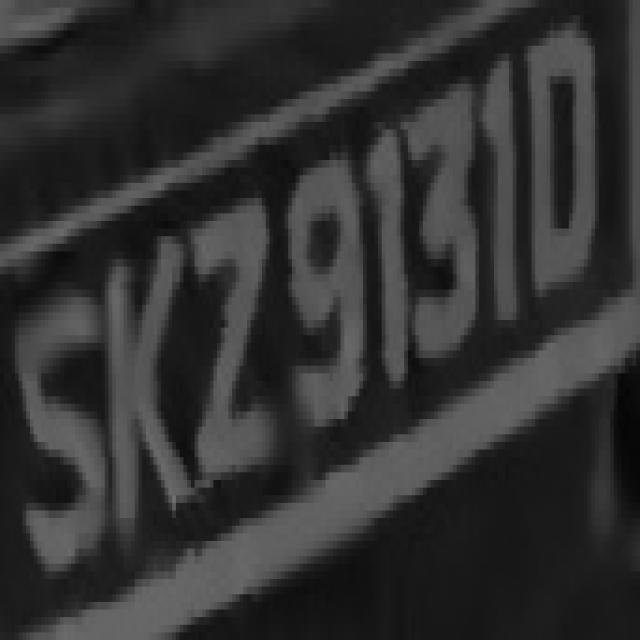1: (479, 31, 528, 358), (360, 99, 404, 404)
3: (393, 76, 472, 343)
9: (277, 160, 363, 442)
D: (520, 23, 610, 335)
K: (86, 214, 198, 548)
S: (15, 251, 105, 602)
Z: (168, 160, 288, 495)
